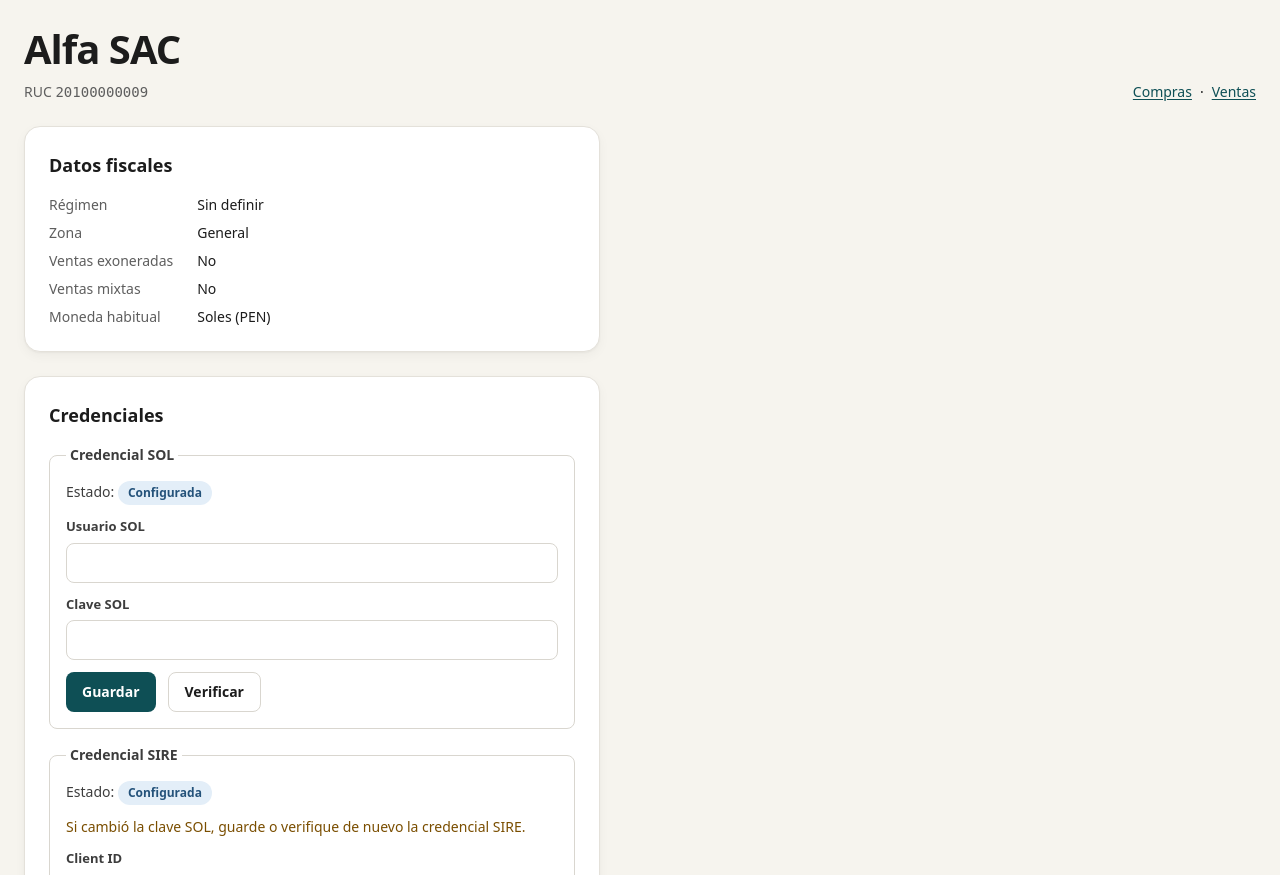
Test case: /clientes/:id · credenciales (007b) › verificar (D6, CA-5) › Credencial SOL: POST …/sol/verificar con CSRF y sin cuerpo; muestra el trabajo y enlaza al panel
Click the button "Verificar". click: click(214, 692)
box: x1=168 y1=672 x2=261 y2=712
(page scrolled)
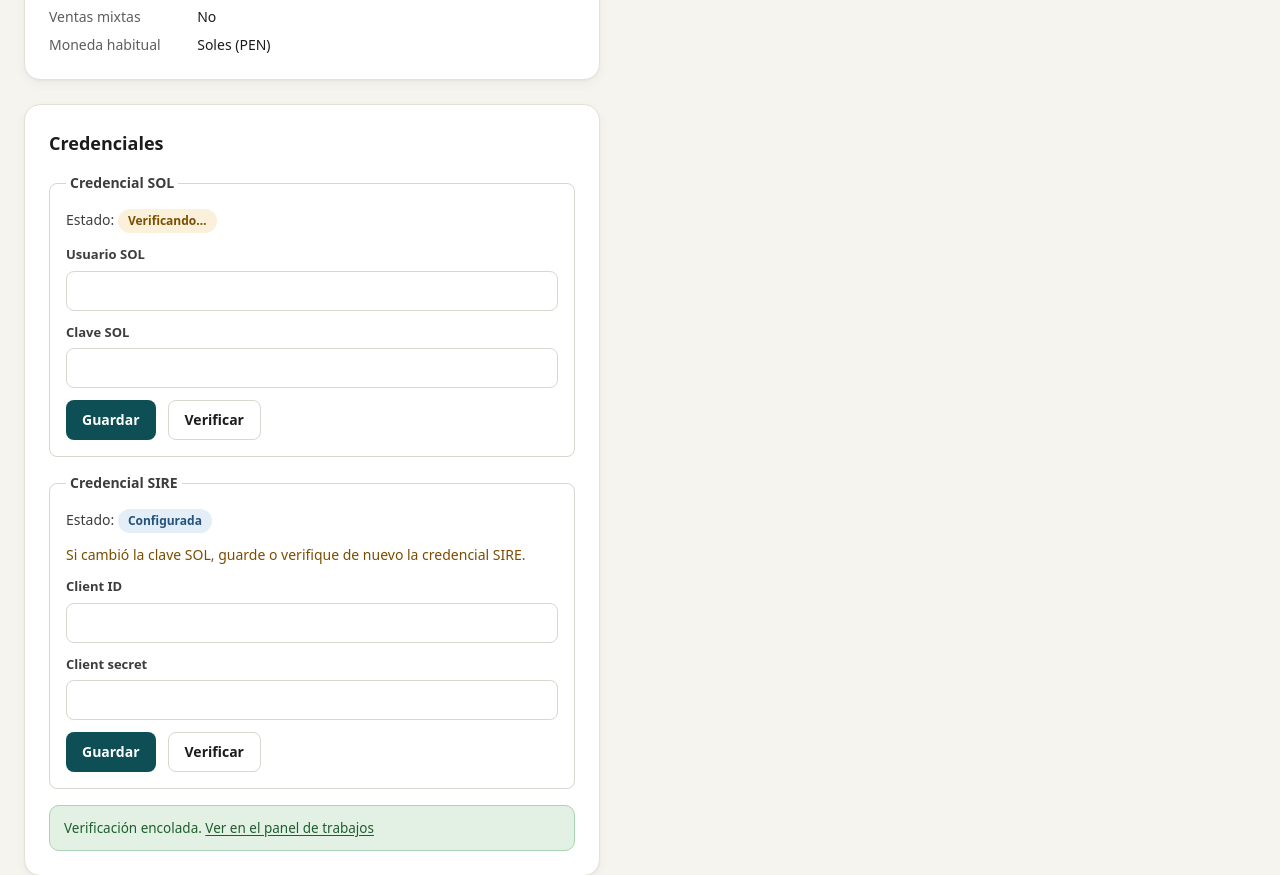
expect the text "Verificación encolada." is shown: met, box x1=64 y1=819 x2=202 y2=837
